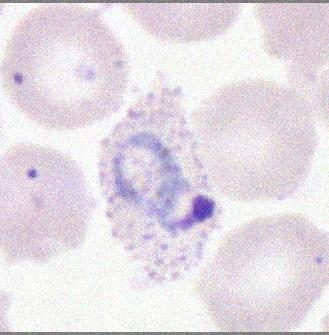Infected: (97, 72, 220, 291)
Uninfected: (199, 215, 328, 335), (2, 5, 123, 129), (196, 80, 319, 201), (0, 140, 92, 263)
